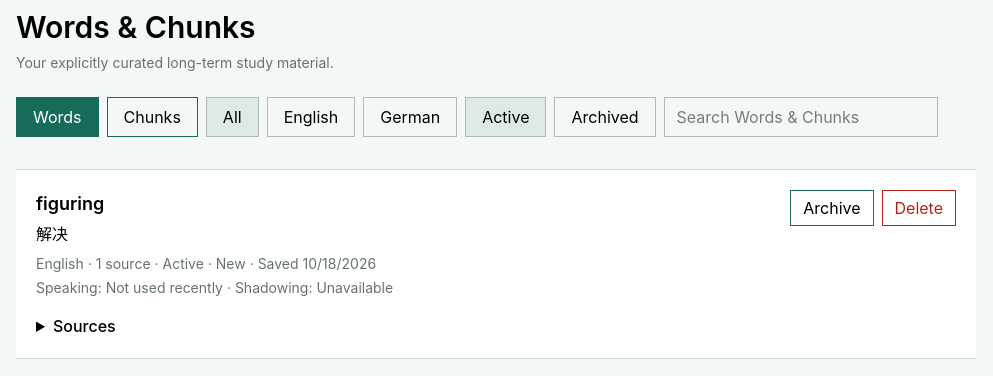
Test: Words & Chunks page › deletes after confirmation and keeps failures contained
Click the button "Delete": (919, 208) [882, 190, 956, 226]
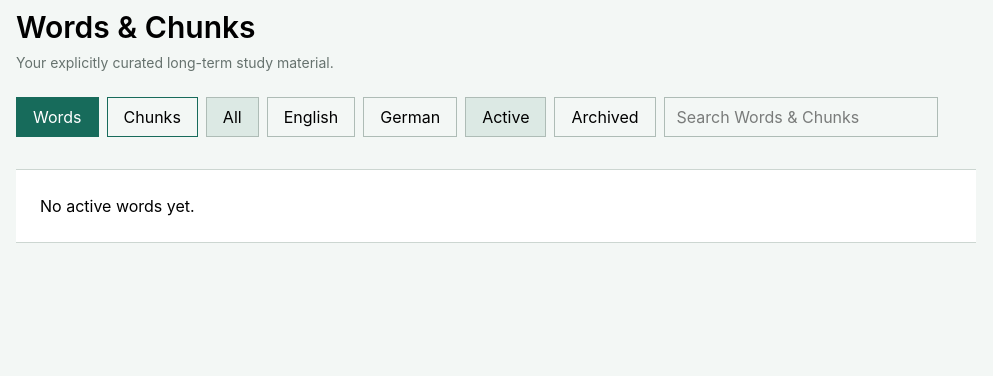
Check: the heading "figuring" is gone
